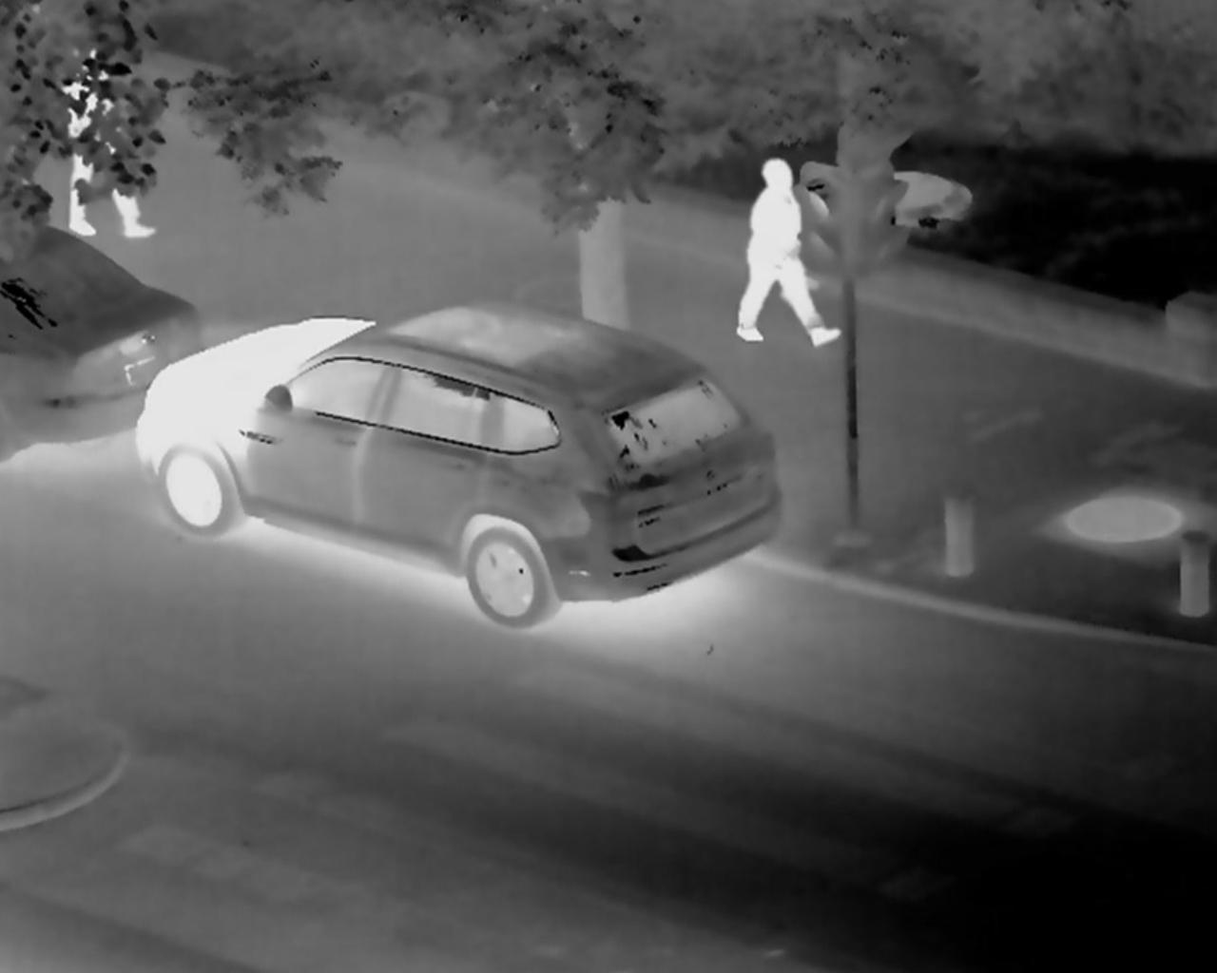person: (741, 152, 852, 356), (67, 73, 184, 242)
